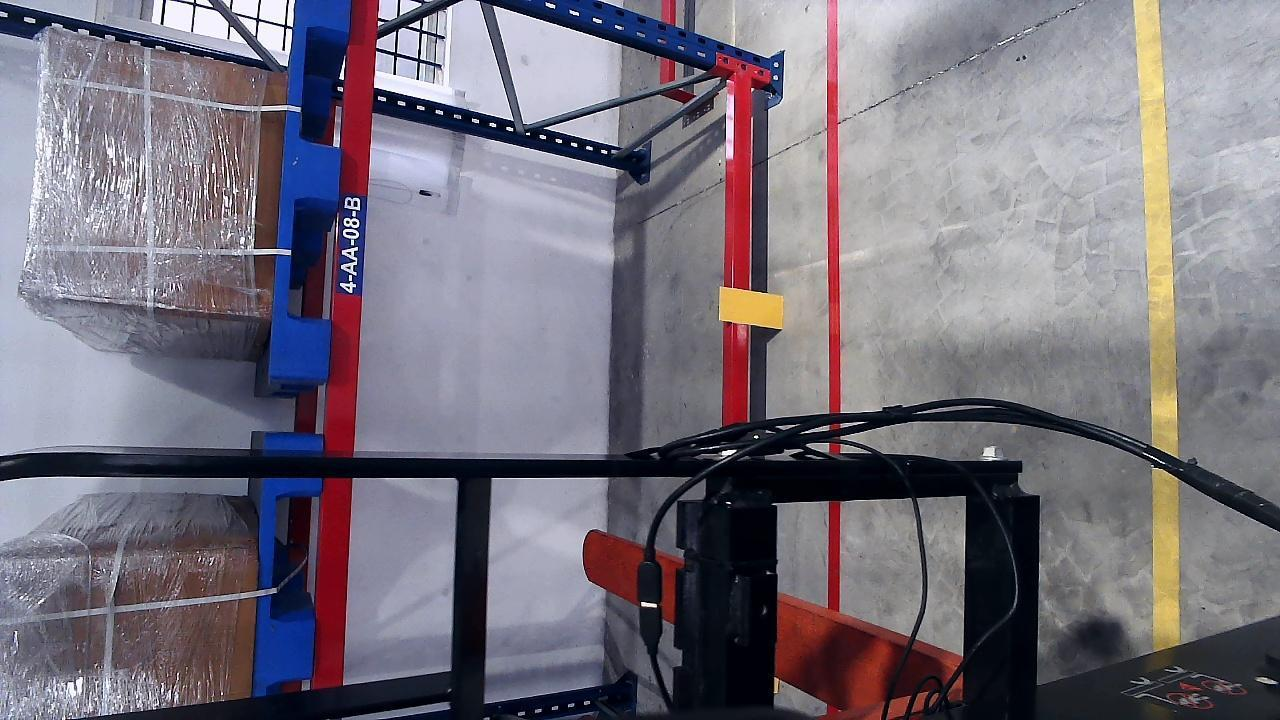red_line: (822, 74, 844, 411)
yellow_line: (1134, 1, 1180, 455), (1153, 470, 1180, 650)
